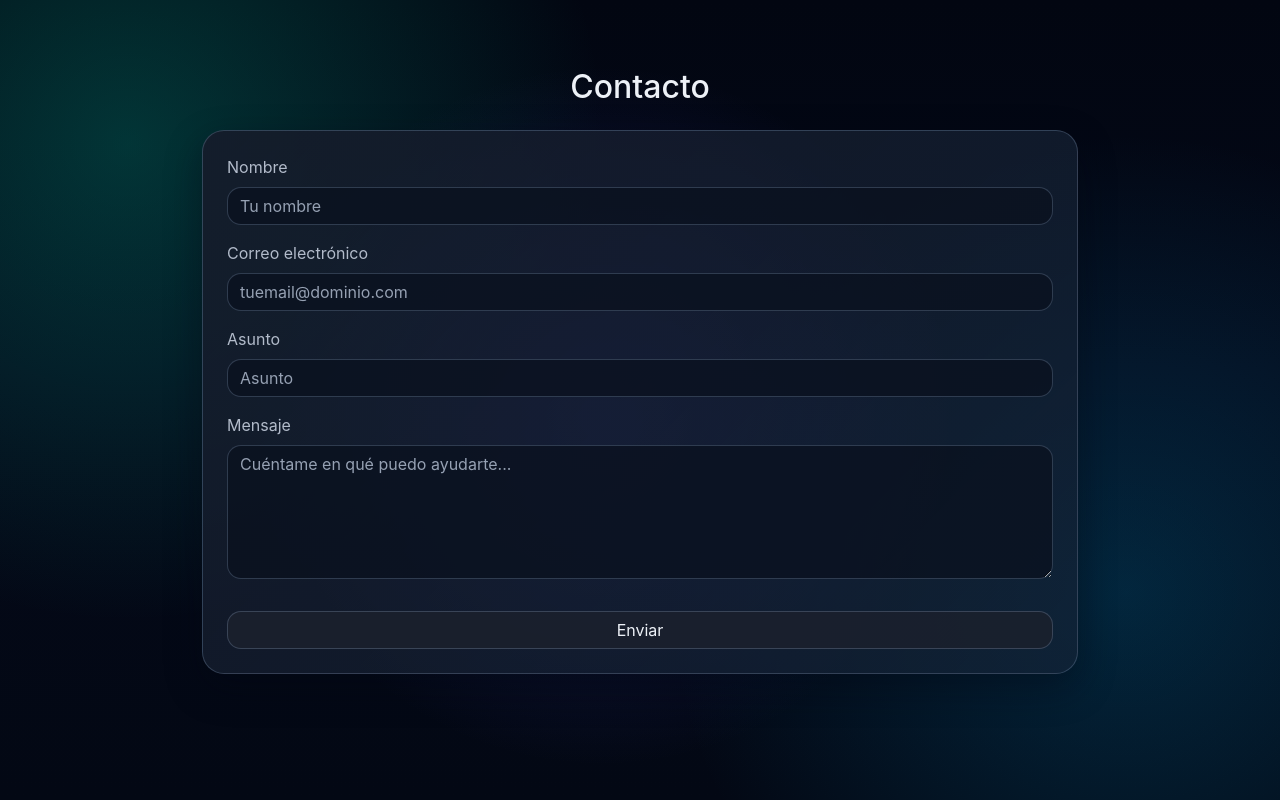
it: ContactView › envia el mensaje y reinicia el formulario cuando Supabase responde sin error
In the field with id "name": (640, 206) [227,187,1053,225], type "Victor"
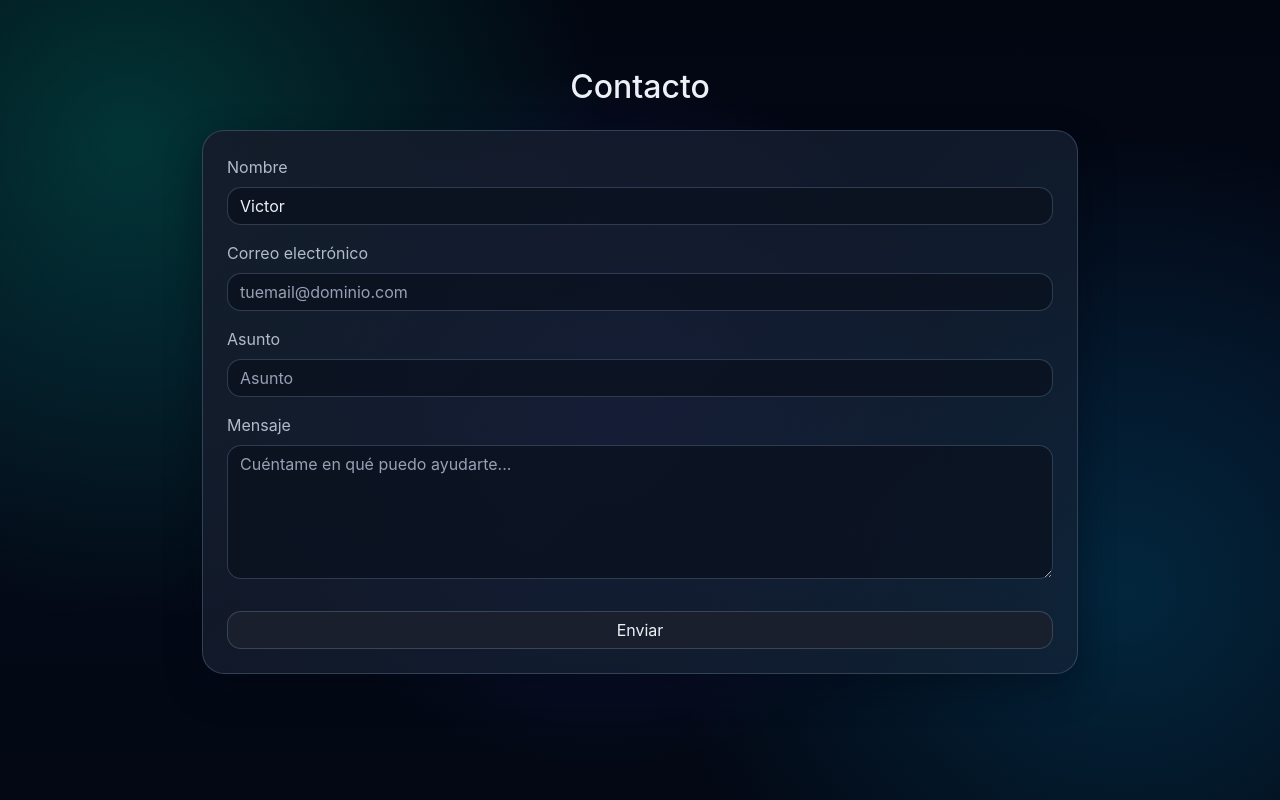
In the field with id "email": (640, 292) [227,273,1053,311], type "victor@example.com"
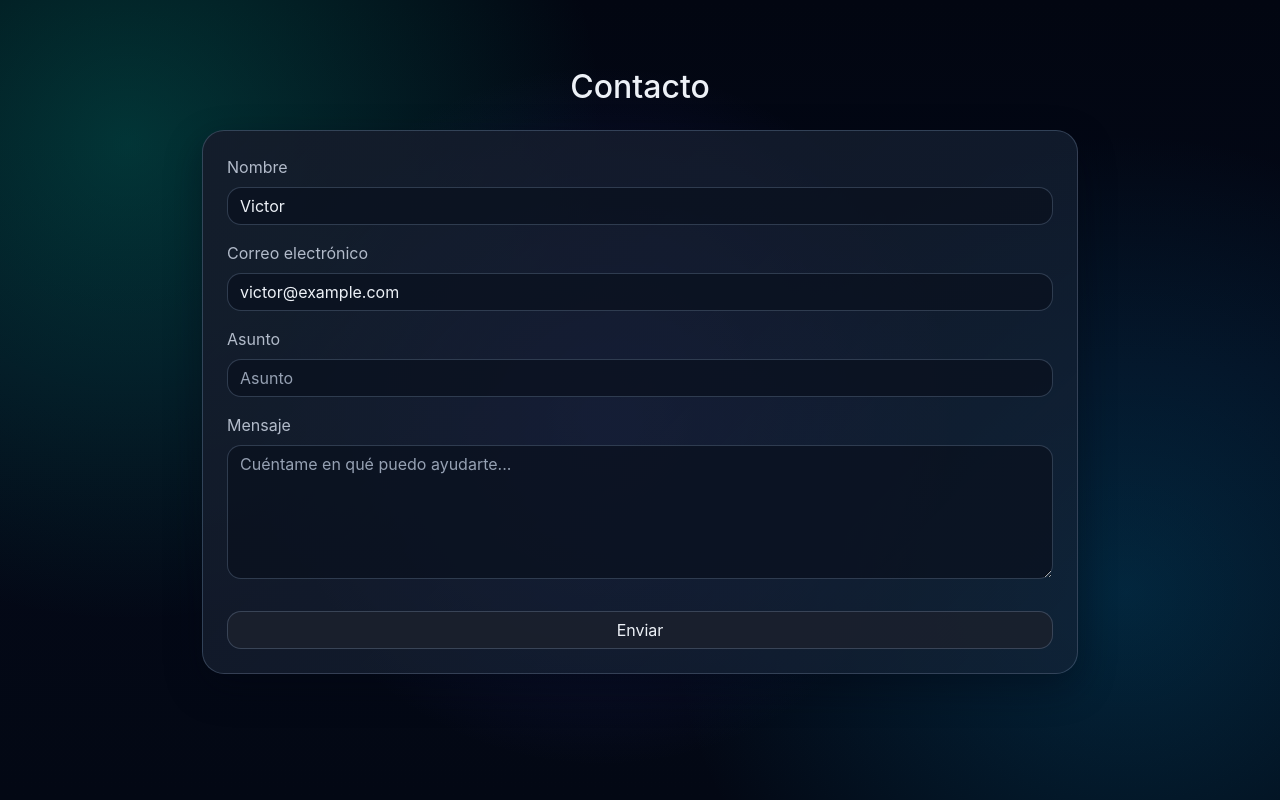
In the field with id "subject": (640, 378) [227,359,1053,397], type "Consulta"
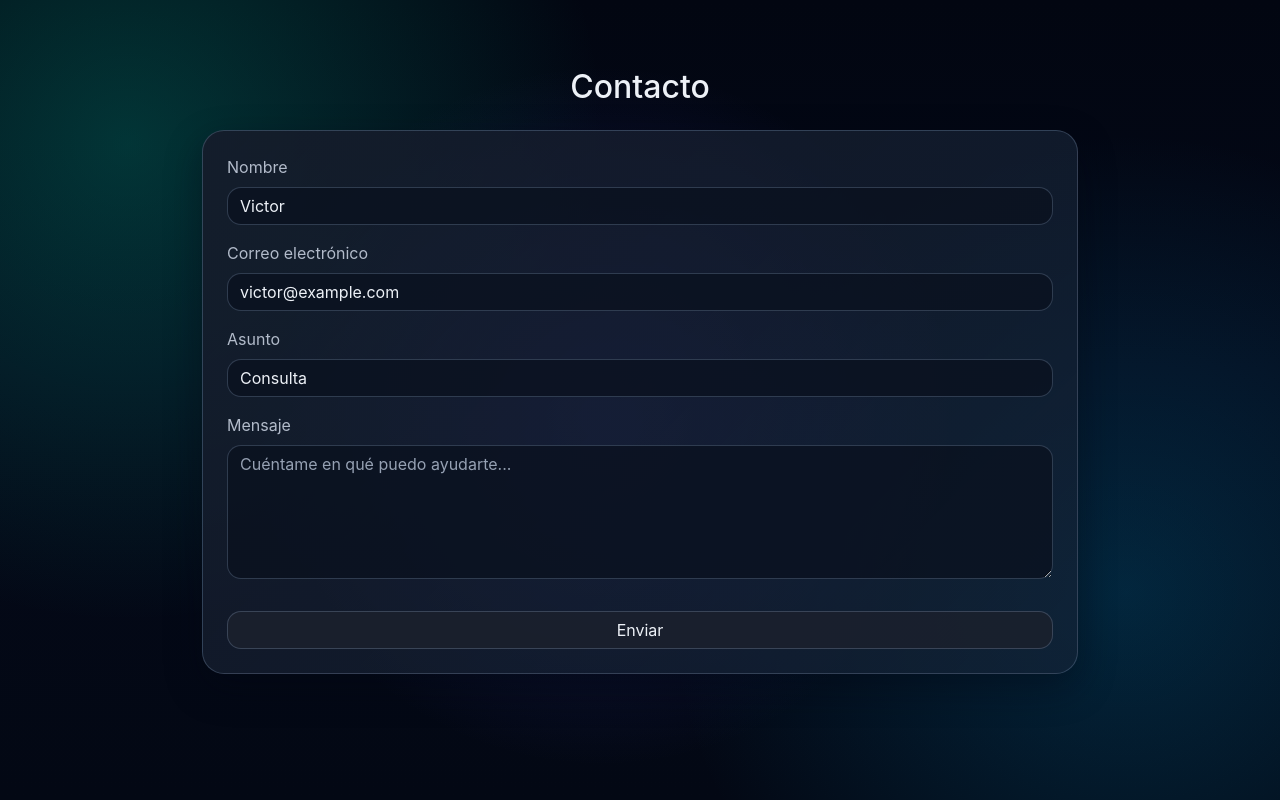
In the text box with id "message": (640, 512) [227,445,1053,579], type "Quiero hablar sobre una oportunidad."
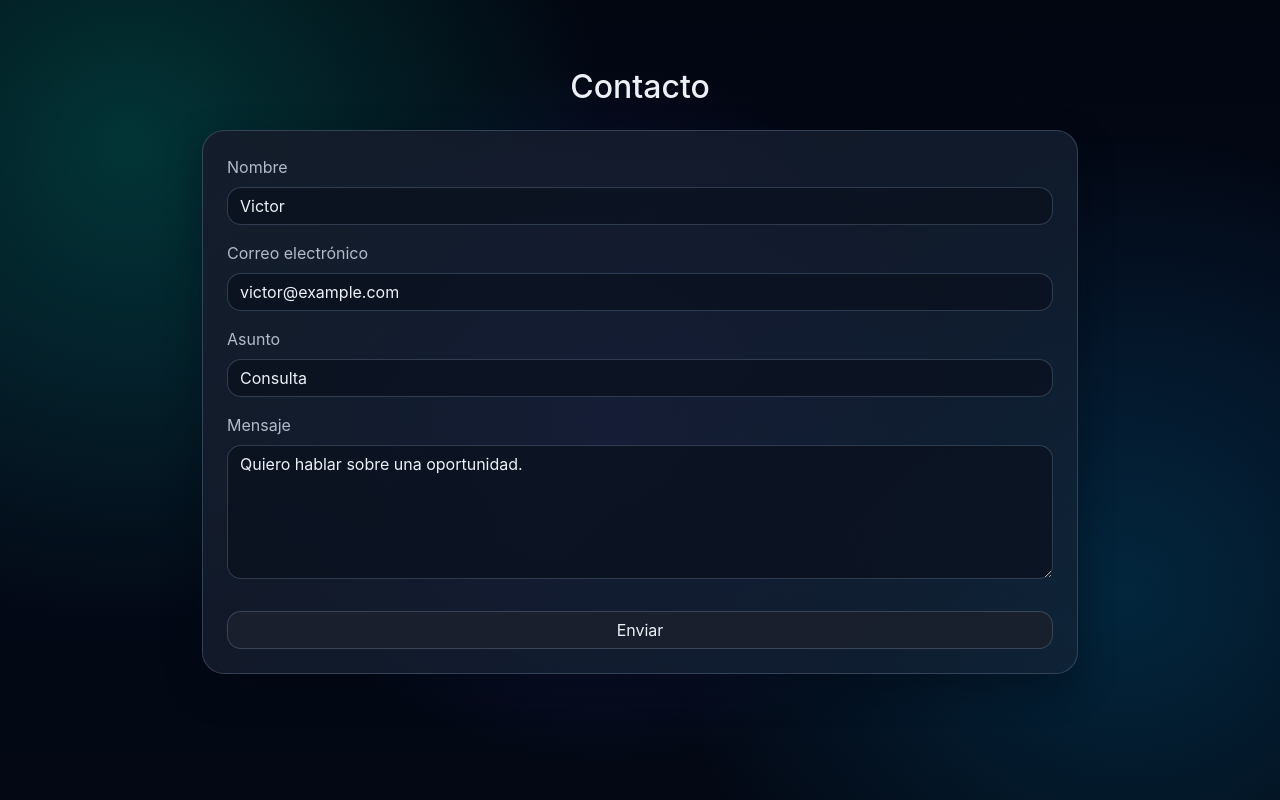
Submit the form, box [202,130,1078,674]
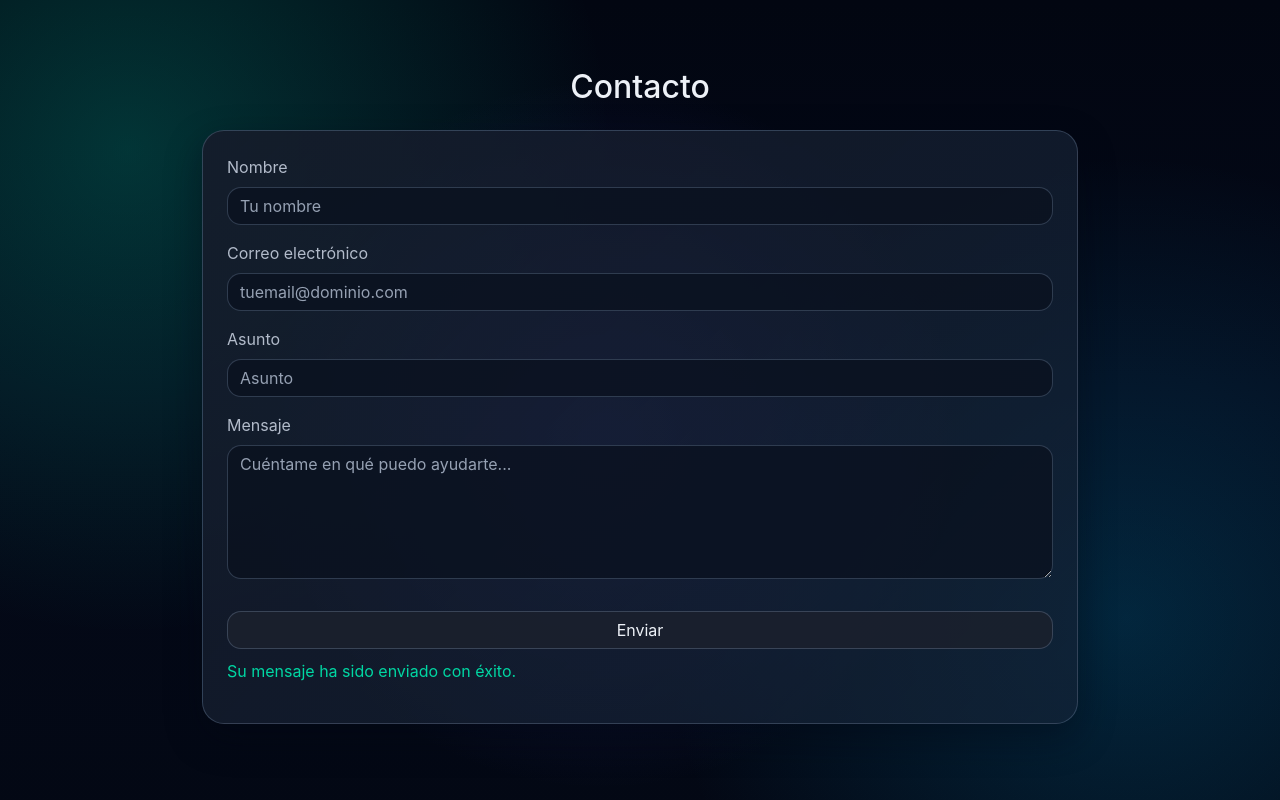
Now the text "Su mensaje ha sido enviado" is shown, box [227,661,516,681]
